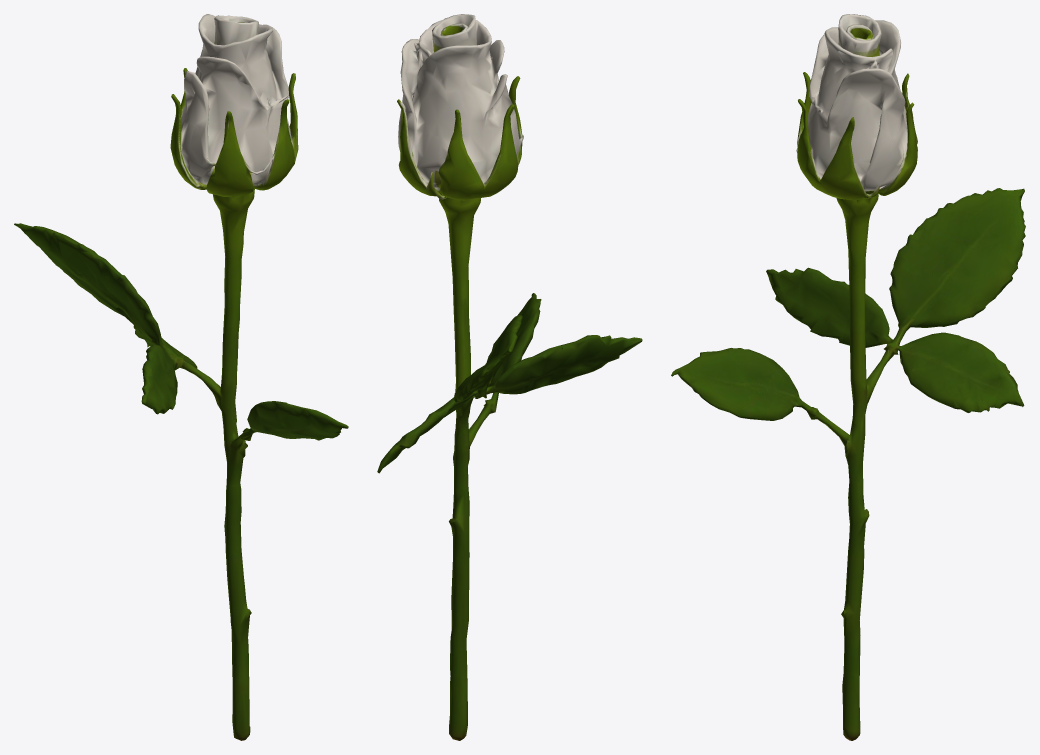
File: White Rose small.glb
The picture shows the model from 3 angles, left to right: view 1: azimuth 30°, elevation 25°; view 2: azimuth 150°, elevation 25°; view 3: azimuth 270°, elevation 25°; orthographic projection.
Visible parts, largest first — view 1: tripo_node_1a9de97c-dde0-4a1d-83ad-7feaa7b4af46; view 2: tripo_node_1a9de97c-dde0-4a1d-83ad-7feaa7b4af46; view 3: tripo_node_1a9de97c-dde0-4a1d-83ad-7feaa7b4af46.
Part boxes in pixels (x1,y1,x2,y2): tripo_node_1a9de97c-dde0-4a1d-83ad-7feaa7b4af46: (14,14,348,740); tripo_node_1a9de97c-dde0-4a1d-83ad-7feaa7b4af46: (377,14,642,740); tripo_node_1a9de97c-dde0-4a1d-83ad-7feaa7b4af46: (671,14,1025,740).
Size of the model in its own units: 0.284 by 0.9997 by 0.4474.
Materials: 1 (1 with a texture image).
